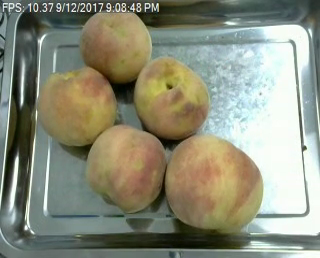Peach: (165, 132, 263, 233), (84, 124, 167, 211), (37, 66, 117, 147), (133, 55, 209, 140), (79, 6, 152, 82)
